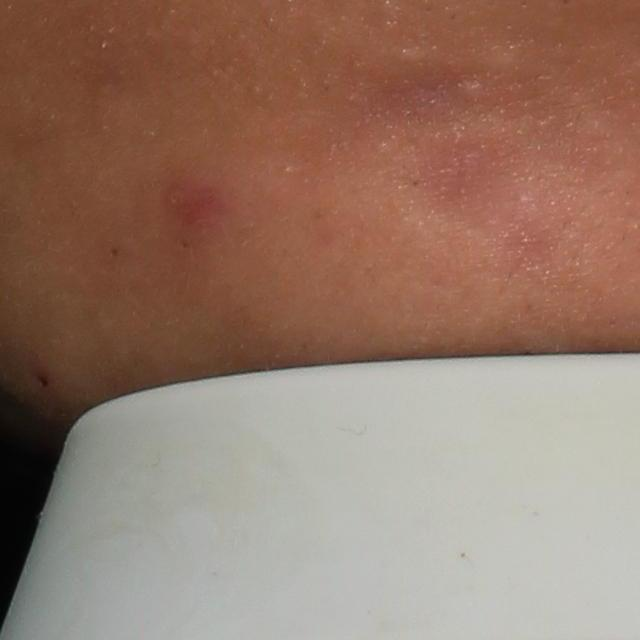hypertrophic_scar: (398, 45, 430, 64)
